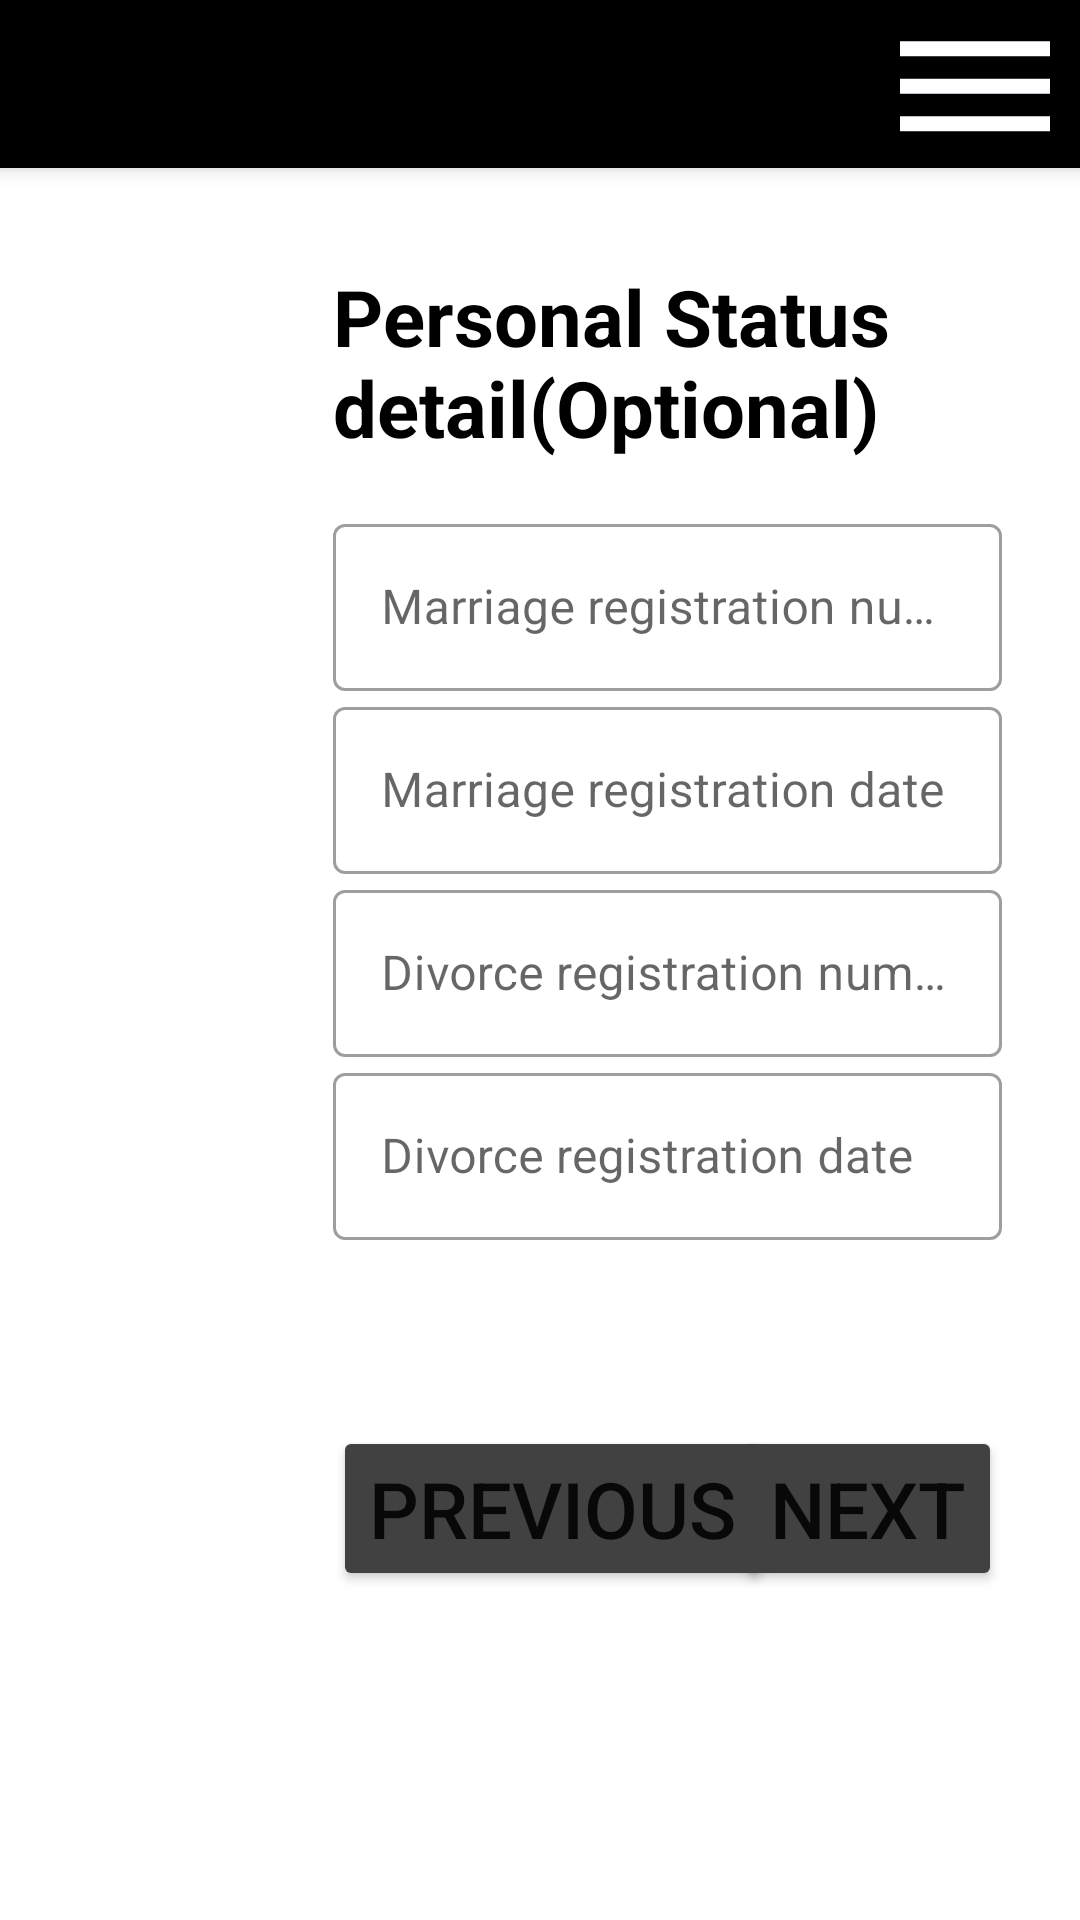

Screen size 1080*1920. Icon name, then its box in pixels as [x1, y1, x2, y2]:
dehaze: [900, 41, 1050, 132]
